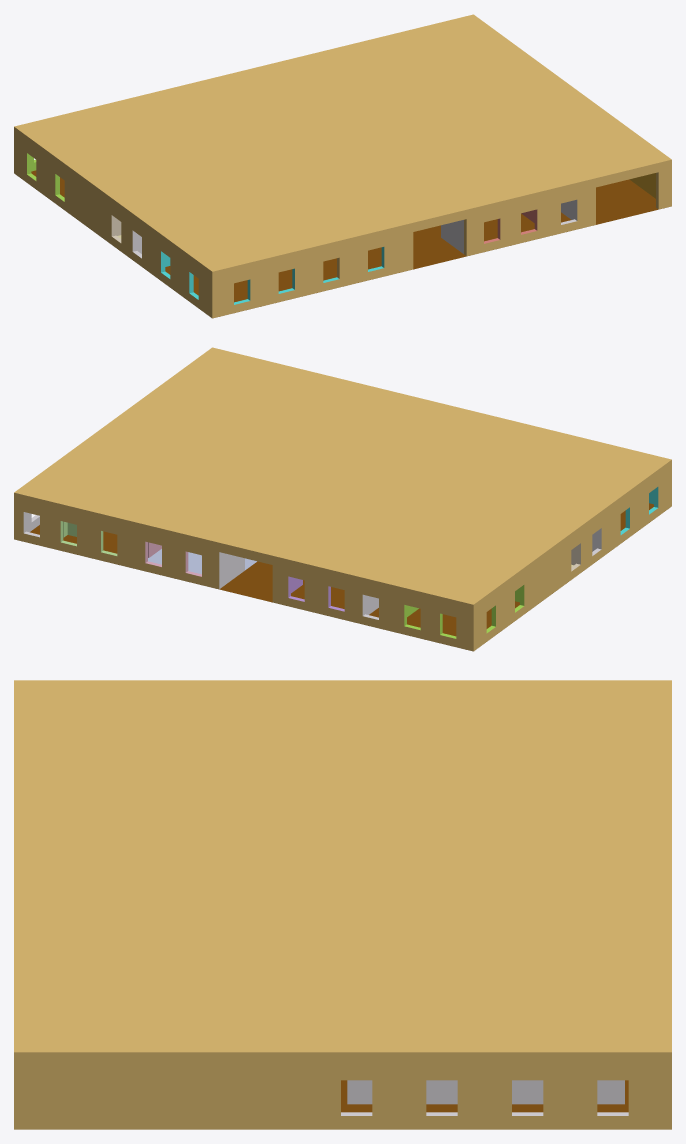
Rendered from house.fbx.
The picture shows the model from 3 angles, top to bottom: view 1: azimuth 30°, elevation 25°; view 2: azimuth 150°, elevation 25°; view 3: azimuth 270°, elevation 25°; orthographic projection. The views are drawn at different scales.
Visible parts, largest first — view 1: ceiling, walls, floor; view 2: ceiling, walls, floor; view 3: ceiling, walls, floor.
Boxes of the visible parts, x1,y1,x2,y2 form: ceiling: [14, 14, 671, 280]; walls: [14, 136, 671, 318]; floor: [31, 170, 664, 316]; ceiling: [14, 347, 671, 613]; walls: [14, 469, 671, 651]; floor: [21, 503, 653, 649]; ceiling: [14, 680, 671, 1067]; walls: [14, 1067, 671, 1129]; floor: [341, 1080, 628, 1112].
Size of the model in its own units: 5150 by 501 by 3850.
